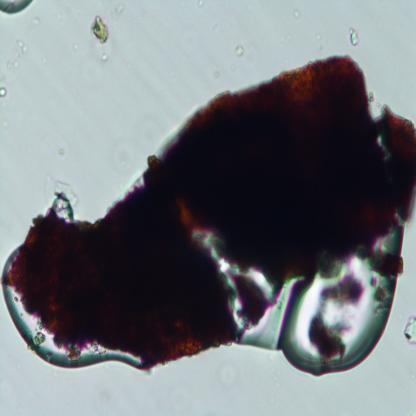Air bubble: (238, 252, 406, 376), (0, 0, 33, 16)
Background material: (41, 173, 79, 216), (89, 12, 111, 43), (14, 36, 32, 68), (403, 314, 416, 346), (347, 26, 361, 48), (97, 51, 109, 65), (234, 46, 245, 58), (197, 1, 206, 10), (0, 87, 7, 97)
Fragment: (0, 54, 416, 365)
